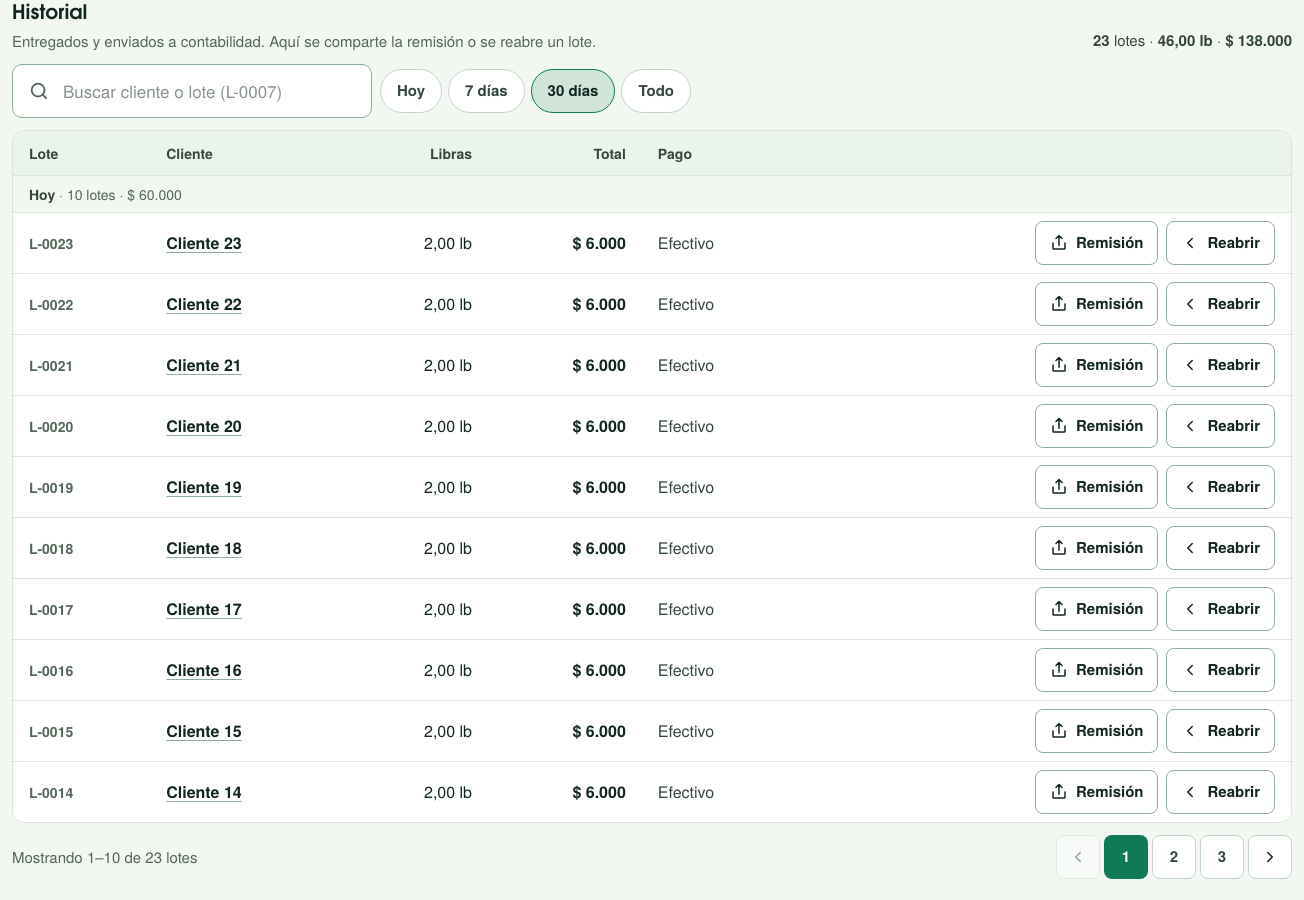
Historial › buscar vuelve a la primera página
Click the button named "Página 2".
click(1174, 857)  # box [1152,835,1196,879]
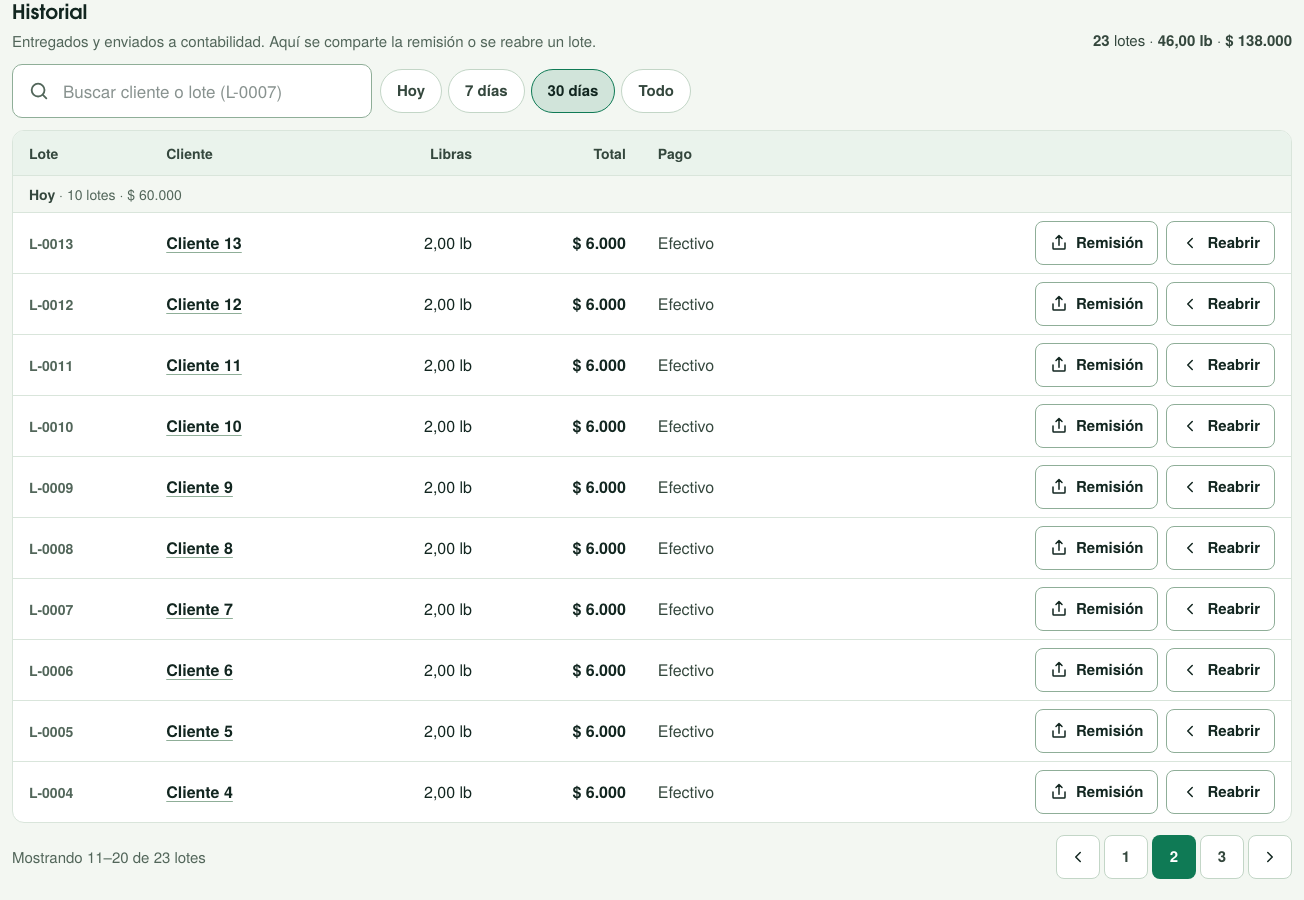
Type "L-0005" into the search field named "Buscar por cliente o código de lote".
click(192, 91); type("L-0005")  # box [12,64,372,118]
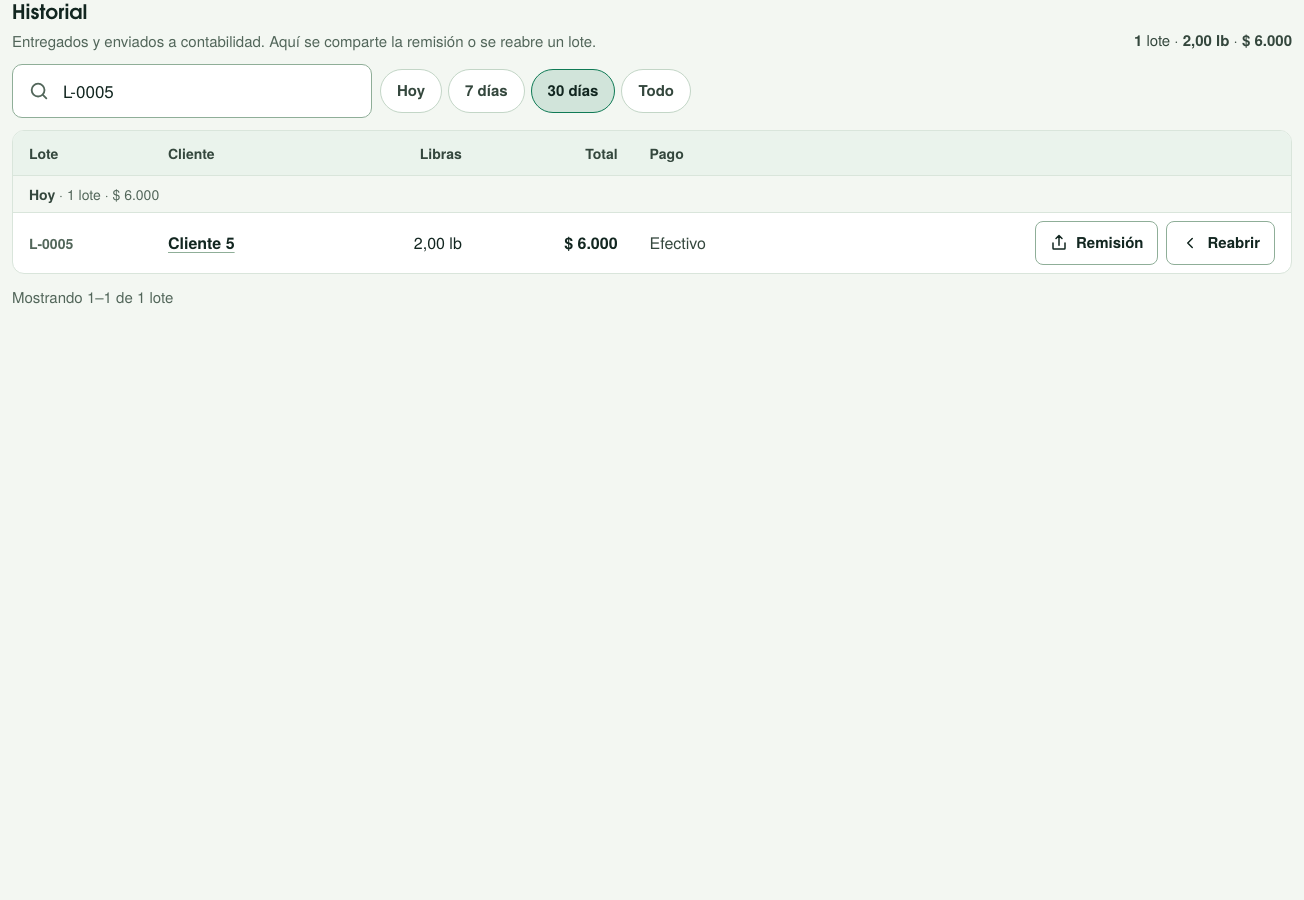
Expected: the text "Mostrando 1–1 de 1 lote" is shown, [12,286,173,308]
